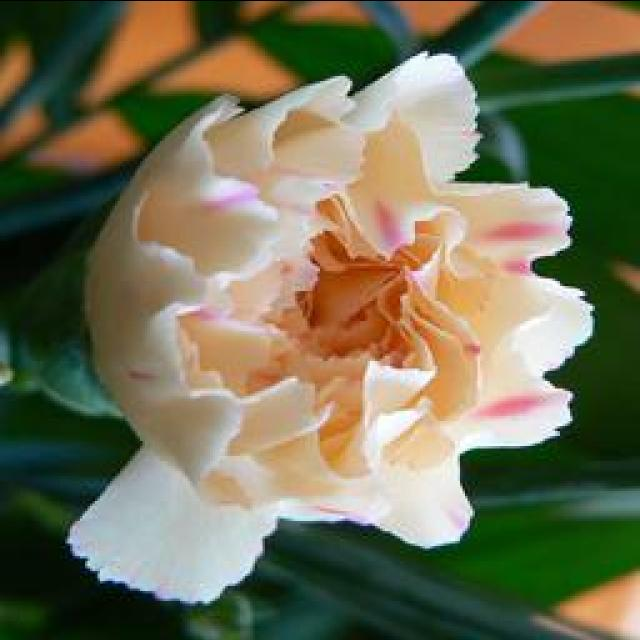carnation: (81, 68, 598, 592)
